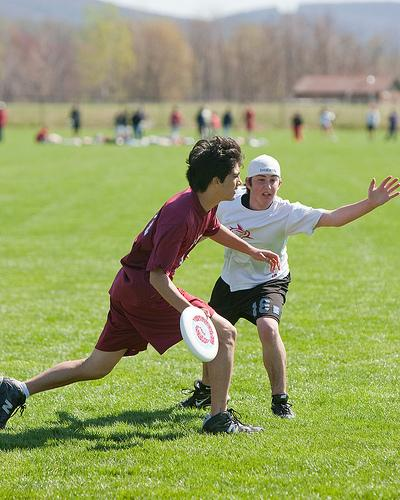person: (2, 137, 263, 454)
